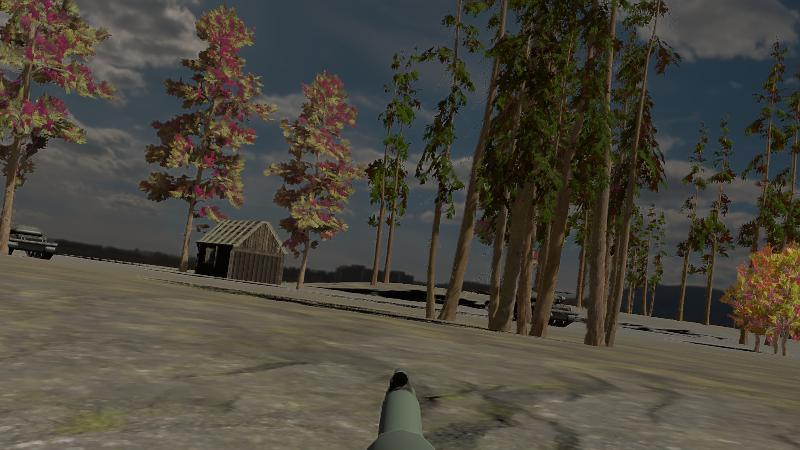House: (195, 218, 285, 284)
Tank: (3, 223, 59, 262), (5, 224, 60, 262), (546, 304, 582, 328)
